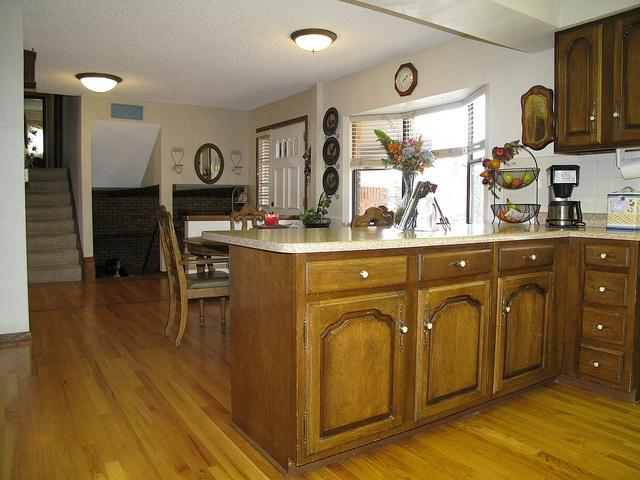Kursi: (156, 204, 230, 347)
Lemari: (551, 3, 639, 156)
